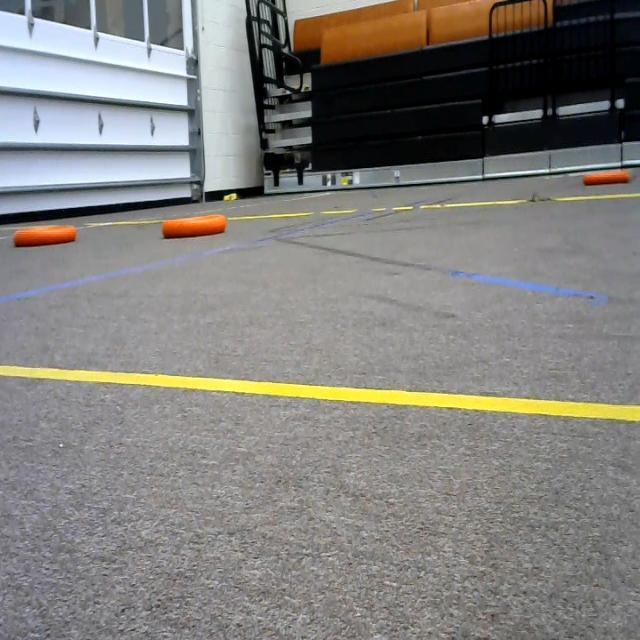note: (11, 214, 81, 255), (163, 211, 230, 248), (579, 167, 634, 188)
